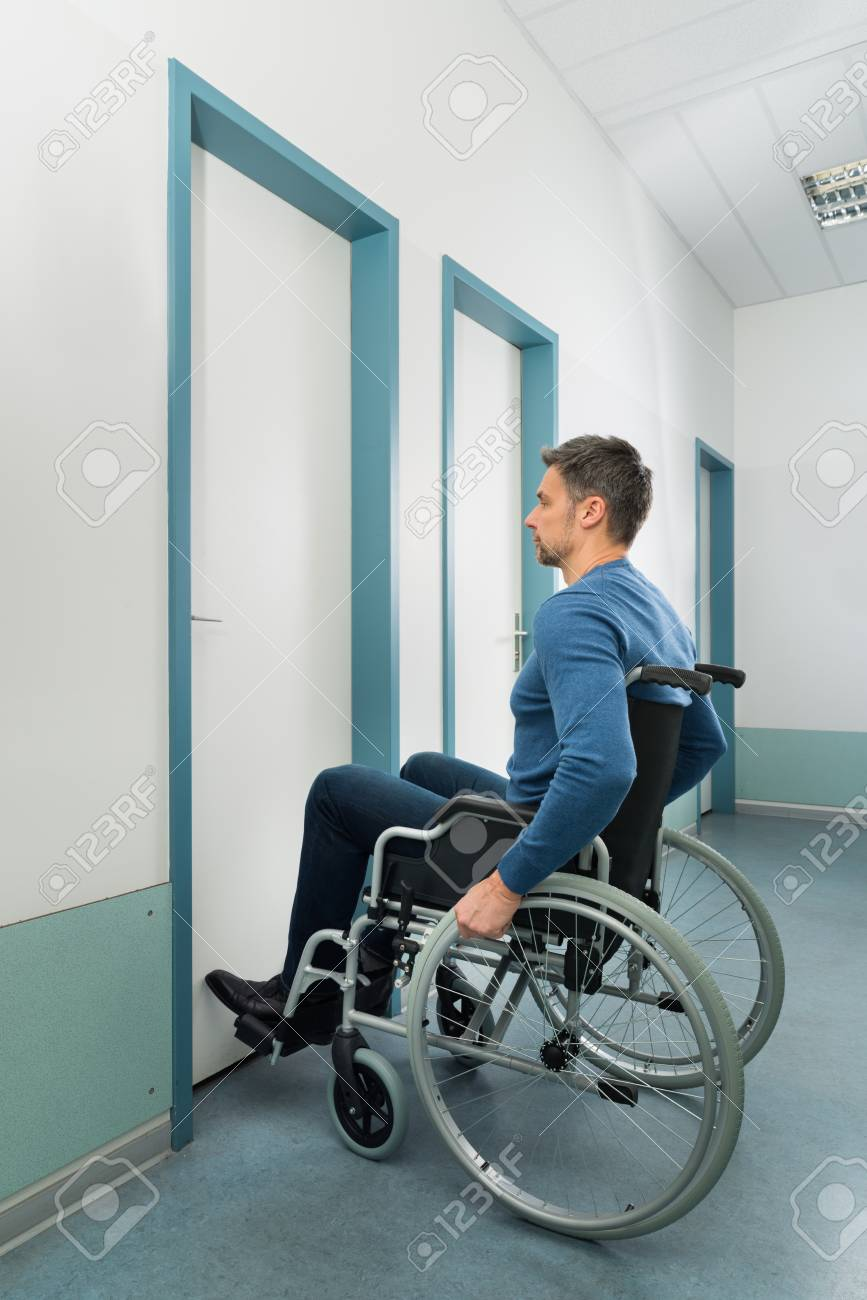wheelchair: (204, 432, 787, 1231)
